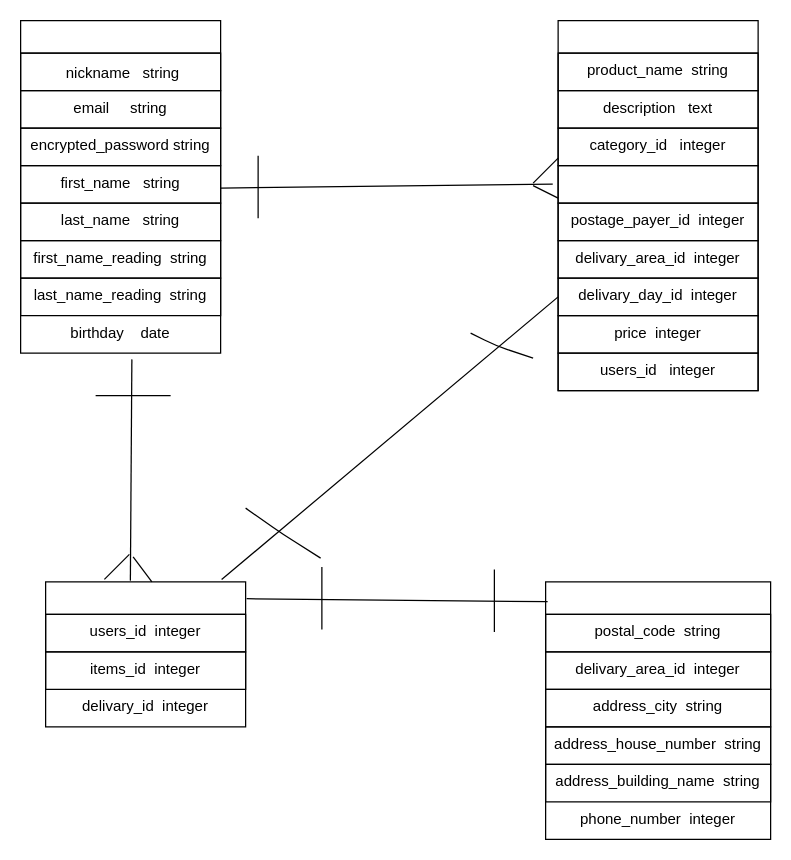
This 791x860 diagram has some shape labels left out. The box of each missing label's shape, as (x1, y1, x2, y2) in pixels:
delivaryテーブル: (544, 581, 771, 839)
itemsテーブル: (557, 19, 758, 391)
product_status_id integer: (557, 164, 758, 203)
saleslogテーブル: (44, 581, 246, 727)
usersテーブル: (19, 19, 221, 353)
